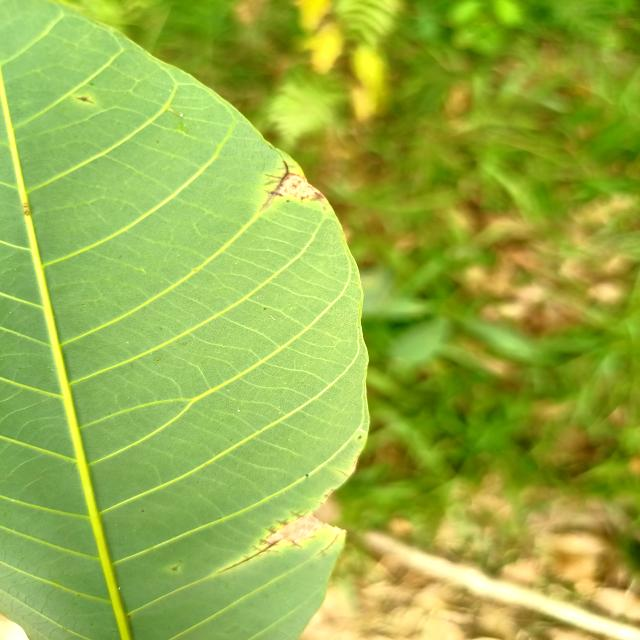Corynespora: (217, 539, 281, 573), (259, 160, 292, 212)
Leaf-Blight: (268, 515, 324, 546), (278, 172, 322, 200)
